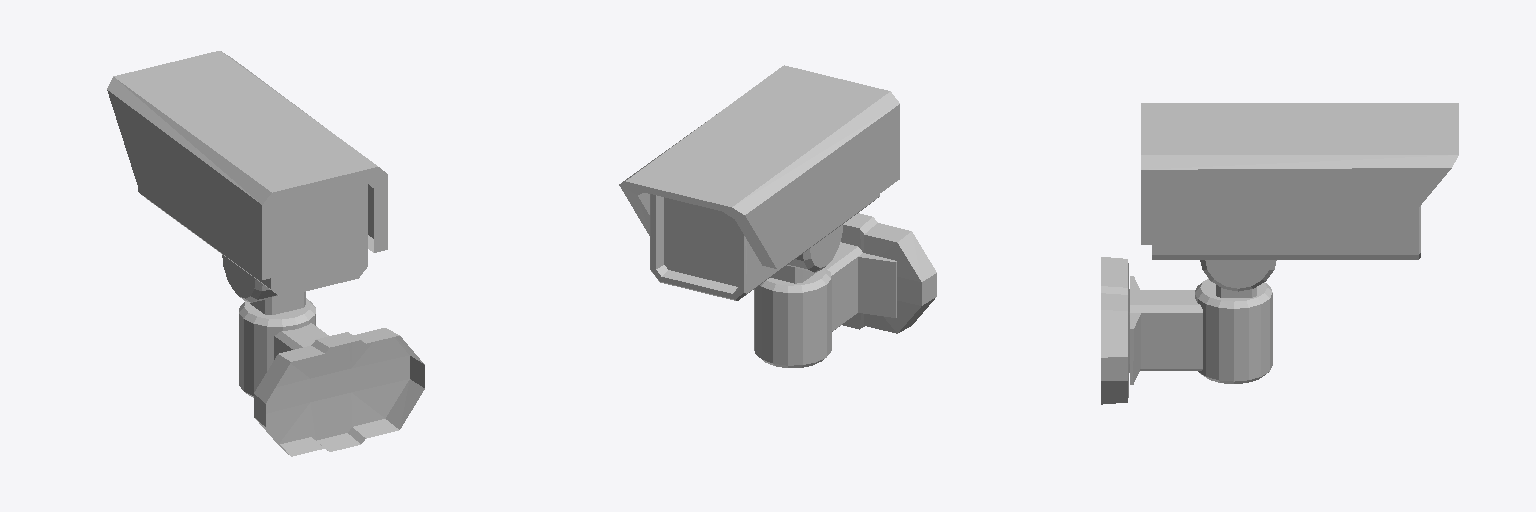
The model's file is securityCamera.obj.
3 renders of one model, left to right at view 1: azimuth 30°, elevation 25°; view 2: azimuth 150°, elevation 25°; view 3: azimuth 270°, elevation 25°, orthographic.
Visible parts, largest first — view 1: CameraHead, securityCamera; view 2: CameraHead, securityCamera; view 3: CameraHead, securityCamera.
Part boxes in pixels (x1,y1,x2,y2): CameraHead: (107,51,387,302); securityCamera: (239,292,424,456); CameraHead: (619,65,899,300); securityCamera: (754,213,936,367); CameraHead: (1141,103,1458,291); securityCamera: (1101,257,1272,404).
Size of the model in its own units: 0.3285 by 0.5007 by 0.6391.